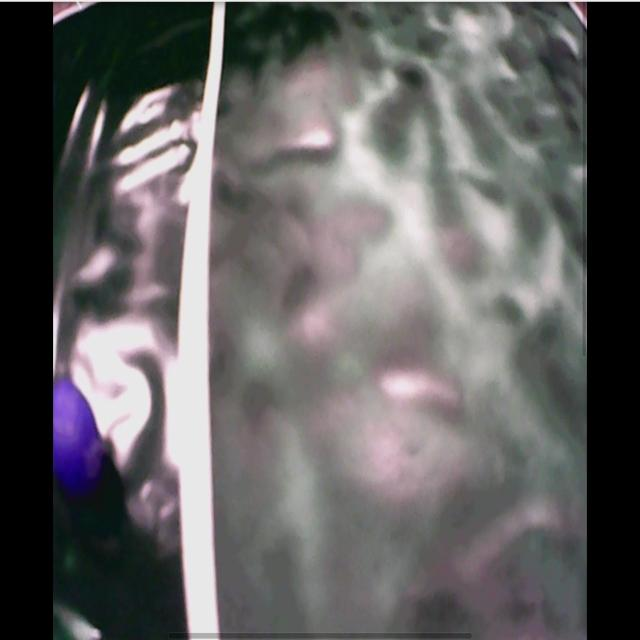ball: (55, 381, 104, 486)
